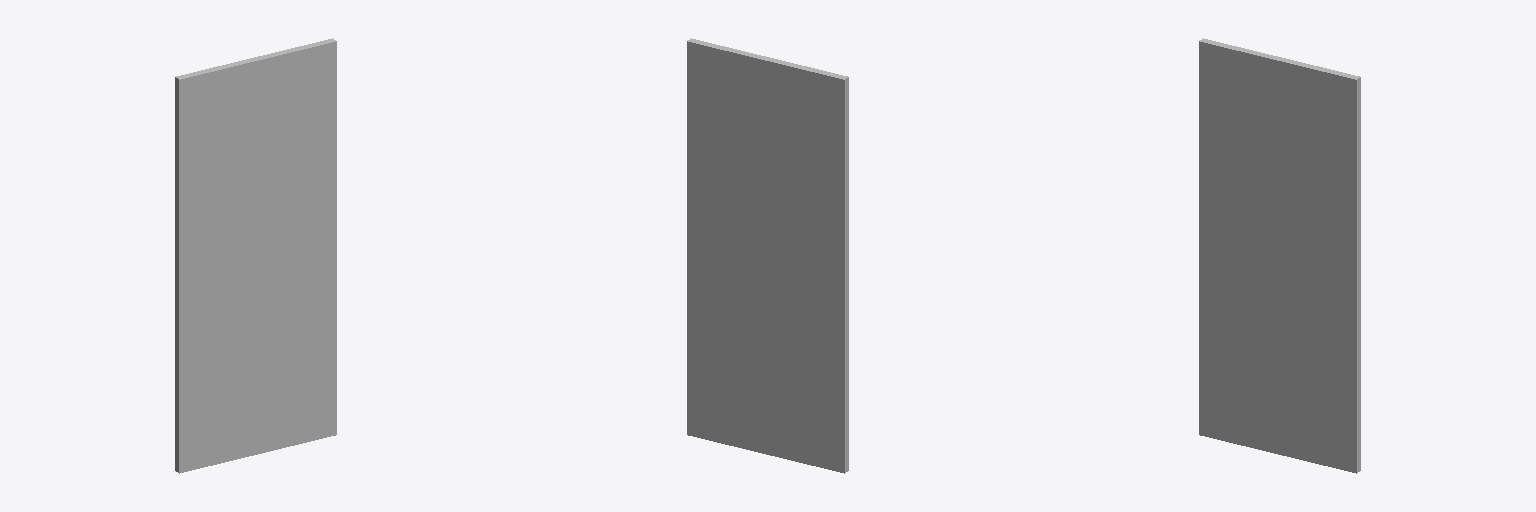
The model's file is Table.obj.
3 renders of one model, left to right at view 1: azimuth 30°, elevation 25°; view 2: azimuth 150°, elevation 25°; view 3: azimuth 330°, elevation 25°, orthographic.
Visible parts, largest first — view 1: Table_Plane; view 2: Table_Plane; view 3: Table_Plane.
Part boxes in pixels (bbox=[...]): Table_Plane: bbox=[175, 38, 336, 473]; Table_Plane: bbox=[687, 38, 848, 473]; Table_Plane: bbox=[1199, 38, 1360, 473].
Bounding box in the file's own units: 4.39 × 10.5 × 0.2.